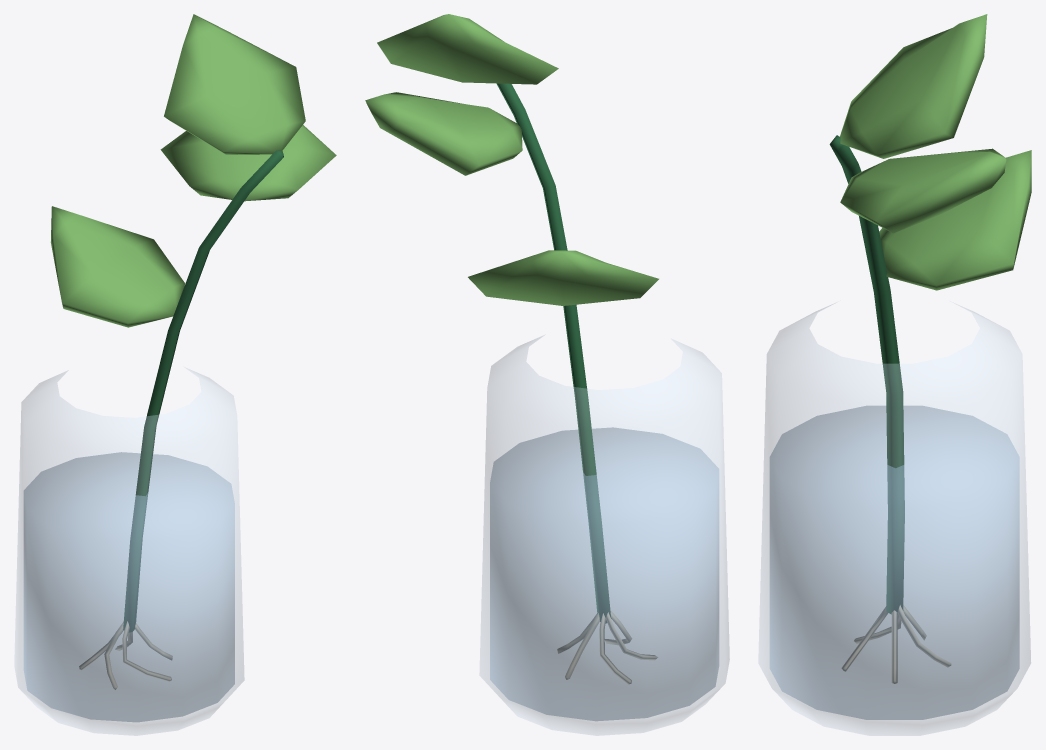
The model's file is plant_cutting.glb.
The picture shows the model from 3 angles, left to right: view 1: azimuth 30°, elevation 25°; view 2: azimuth 150°, elevation 25°; view 3: azimuth 270°, elevation 25°; orthographic projection. The views are drawn at different scales.
Visible parts, largest first — view 1: plant_cutting; view 2: plant_cutting; view 3: plant_cutting.
Boxes of the visible parts, left/top/right/bottom form: plant_cutting: left=14, top=14, right=336, bottom=735; plant_cutting: left=365, top=14, right=729, bottom=735; plant_cutting: left=758, top=14, right=1031, bottom=735.
Bounding box in the file's own units: 0.1417 × 0.285 × 0.0962.
